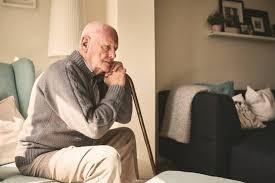Human: (15, 11, 155, 178)
